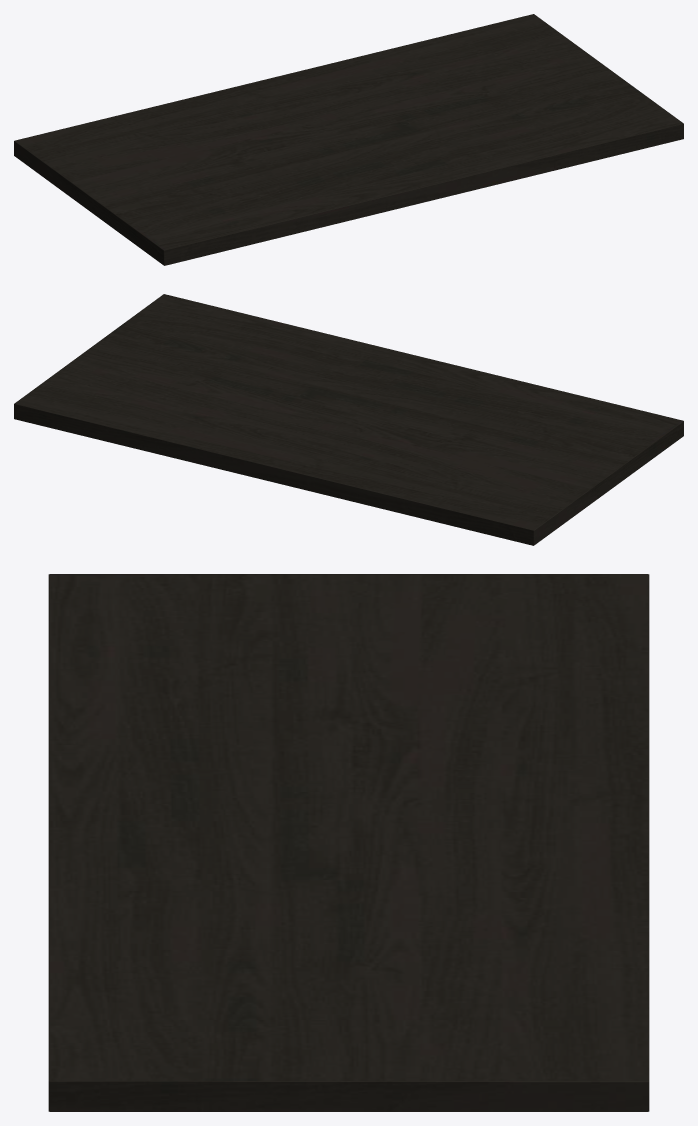
Rendered from LAGKAPTEN_10460666.glb.
3 views of the same model, one above another, from view 1: azimuth 30°, elevation 25°; view 2: azimuth 150°, elevation 25°; view 3: azimuth 270°, elevation 25° (orthographic). The views are drawn at different scales.
Parts seen in each view (by area): view 1: model; view 2: model; view 3: model.
Part boxes in pixels (x1=…): model: x1=14, y1=14, x2=683, y2=265; model: x1=14, y1=294, x2=683, y2=545; model: x1=48, y1=574, x2=649, y2=1111.
Bounding box in the file's own units: 1.2 × 0.0341 × 0.6.
1 material, 1 textured.
